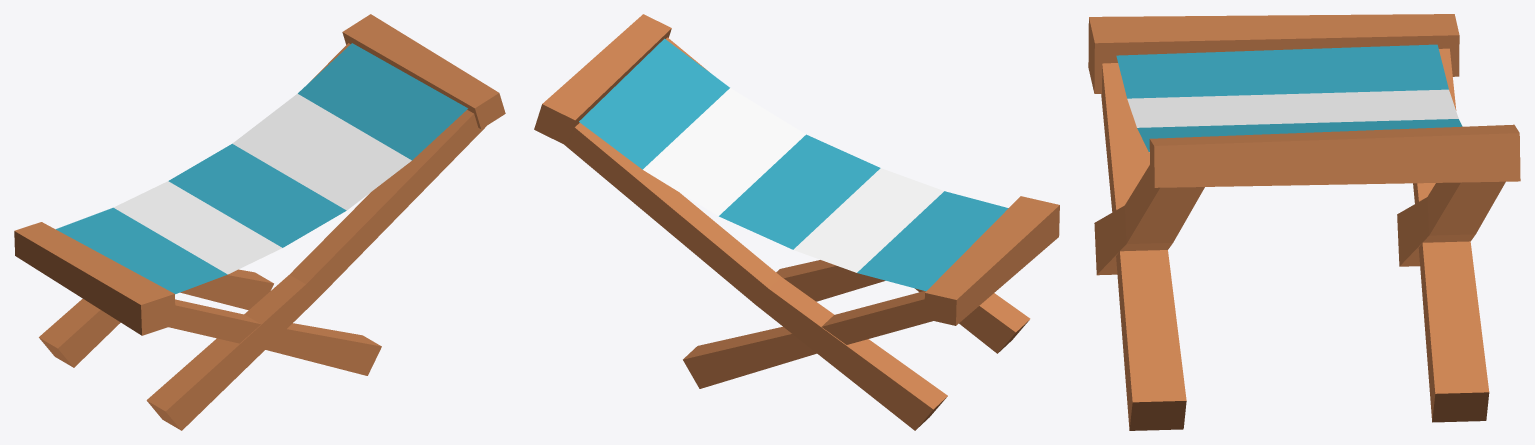
Rendered from deck_chair.fbx.
3 renders of one model, left to right at view 1: azimuth 30°, elevation 25°; view 2: azimuth 150°, elevation 25°; view 3: azimuth 270°, elevation 25°, orthographic. The views are drawn at different scales.
Visible parts, largest first — view 1: deck_chair; view 2: deck_chair; view 3: deck_chair.
Part boxes in pixels (bbox=[...]): deck_chair: bbox=[14, 14, 505, 430]; deck_chair: bbox=[534, 14, 1059, 430]; deck_chair: bbox=[1088, 14, 1520, 430].
Bounding box in the file's own units: 190 × 112 × 110.
Materials: 1 (1 with a texture image).
